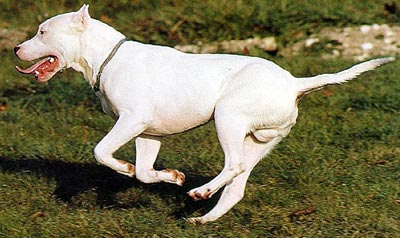dogo_argentino: (13, 2, 395, 226)
